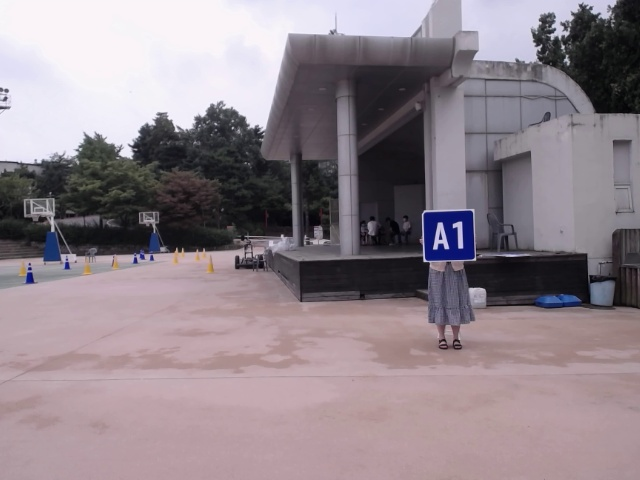delivery_a1: (423, 210, 476, 262)
